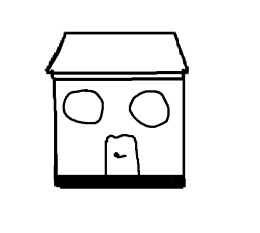door: (99, 129, 143, 177)
open_window: (129, 90, 170, 129), (64, 89, 102, 124)
roof: (41, 28, 194, 79)
wall: (50, 70, 189, 192)
